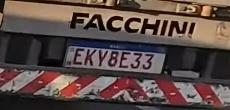Placa_mercosul_carro: (63, 38, 167, 74)
